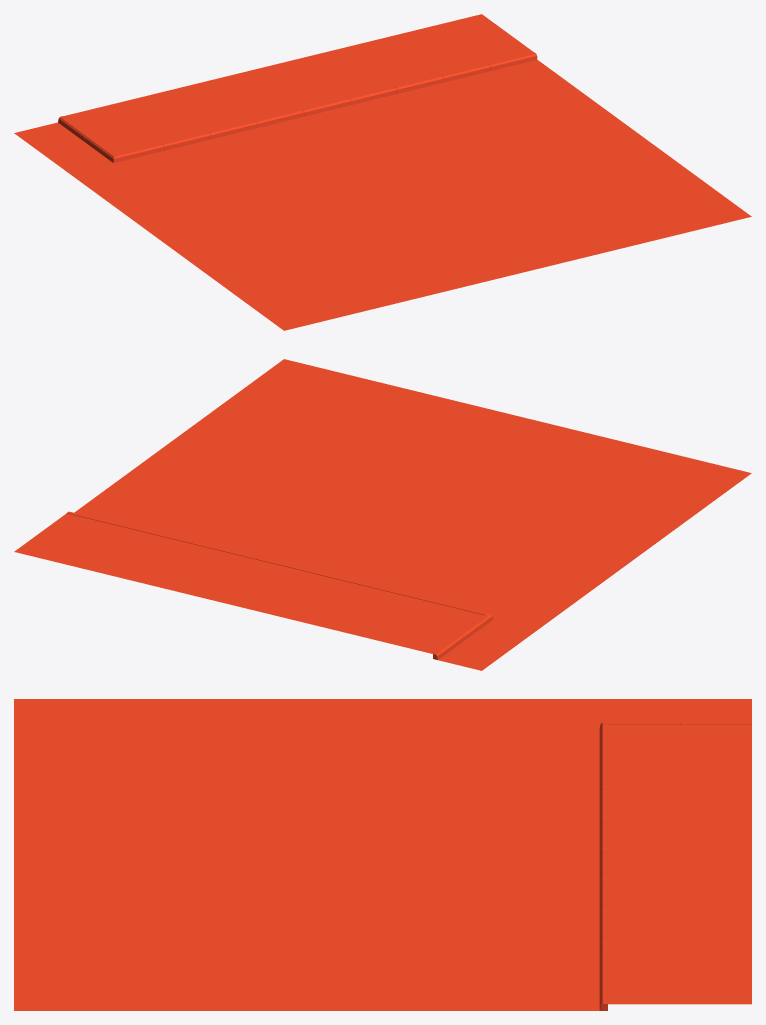
File: SM_Road_Parking_Half_10x10_City.fbx
3 views of the same model, one above another, from view 1: azimuth 30°, elevation 25°; view 2: azimuth 150°, elevation 25°; view 3: azimuth 270°, elevation 25° (orthographic). The views are drawn at different scales.
Visible parts, largest first — view 1: SM_Road_Parking_Half_10x10_City; view 2: SM_Road_Parking_Half_10x10_City; view 3: SM_Road_Parking_Half_10x10_City.
Part boxes in pixels (box(x1,y1,x2,y2)): SM_Road_Parking_Half_10x10_City: box(14, 14, 751, 330); SM_Road_Parking_Half_10x10_City: box(14, 359, 751, 670); SM_Road_Parking_Half_10x10_City: box(14, 699, 751, 1010).
Bounding box in the file's own units: 10 × 0.1084 × 10.
